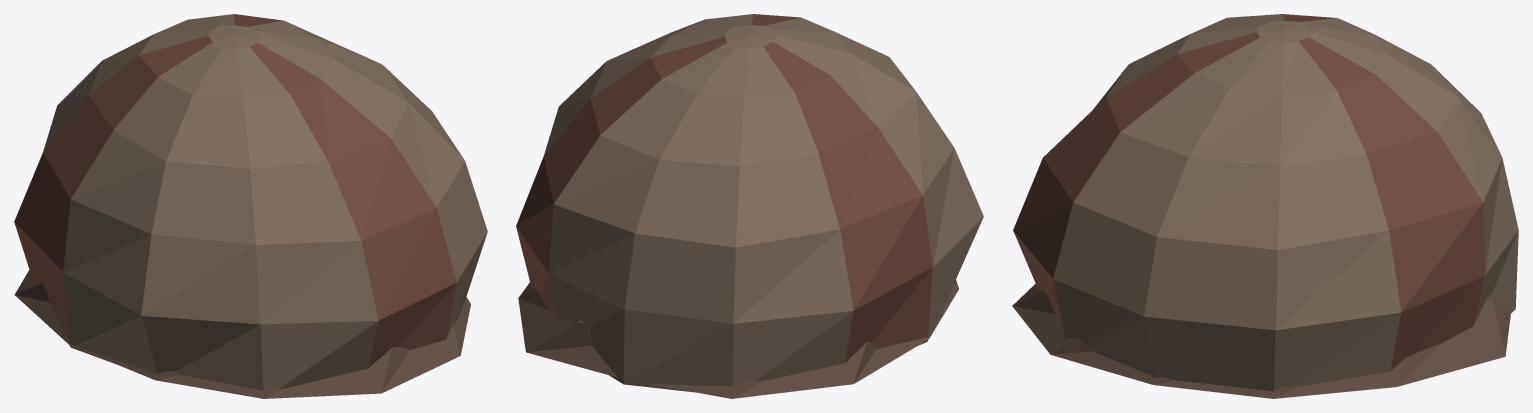
The model's file is cocoon_megaspider_2.obj.
3 renders of one model, left to right at view 1: azimuth 30°, elevation 25°; view 2: azimuth 150°, elevation 25°; view 3: azimuth 270°, elevation 25°, orthographic. The views are drawn at different scales.
Parts seen in each view (by area): view 1: cocoon_megaspider_2; view 2: cocoon_megaspider_2; view 3: cocoon_megaspider_2.
Part boxes in pixels (left/top/right/bottom): cocoon_megaspider_2: left=14, top=14, right=487, bottom=398; cocoon_megaspider_2: left=516, top=14, right=983, bottom=398; cocoon_megaspider_2: left=1012, top=14, right=1518, bottom=398.
Bounding box in the file's own units: 1.23 × 0.812 × 1.36.
